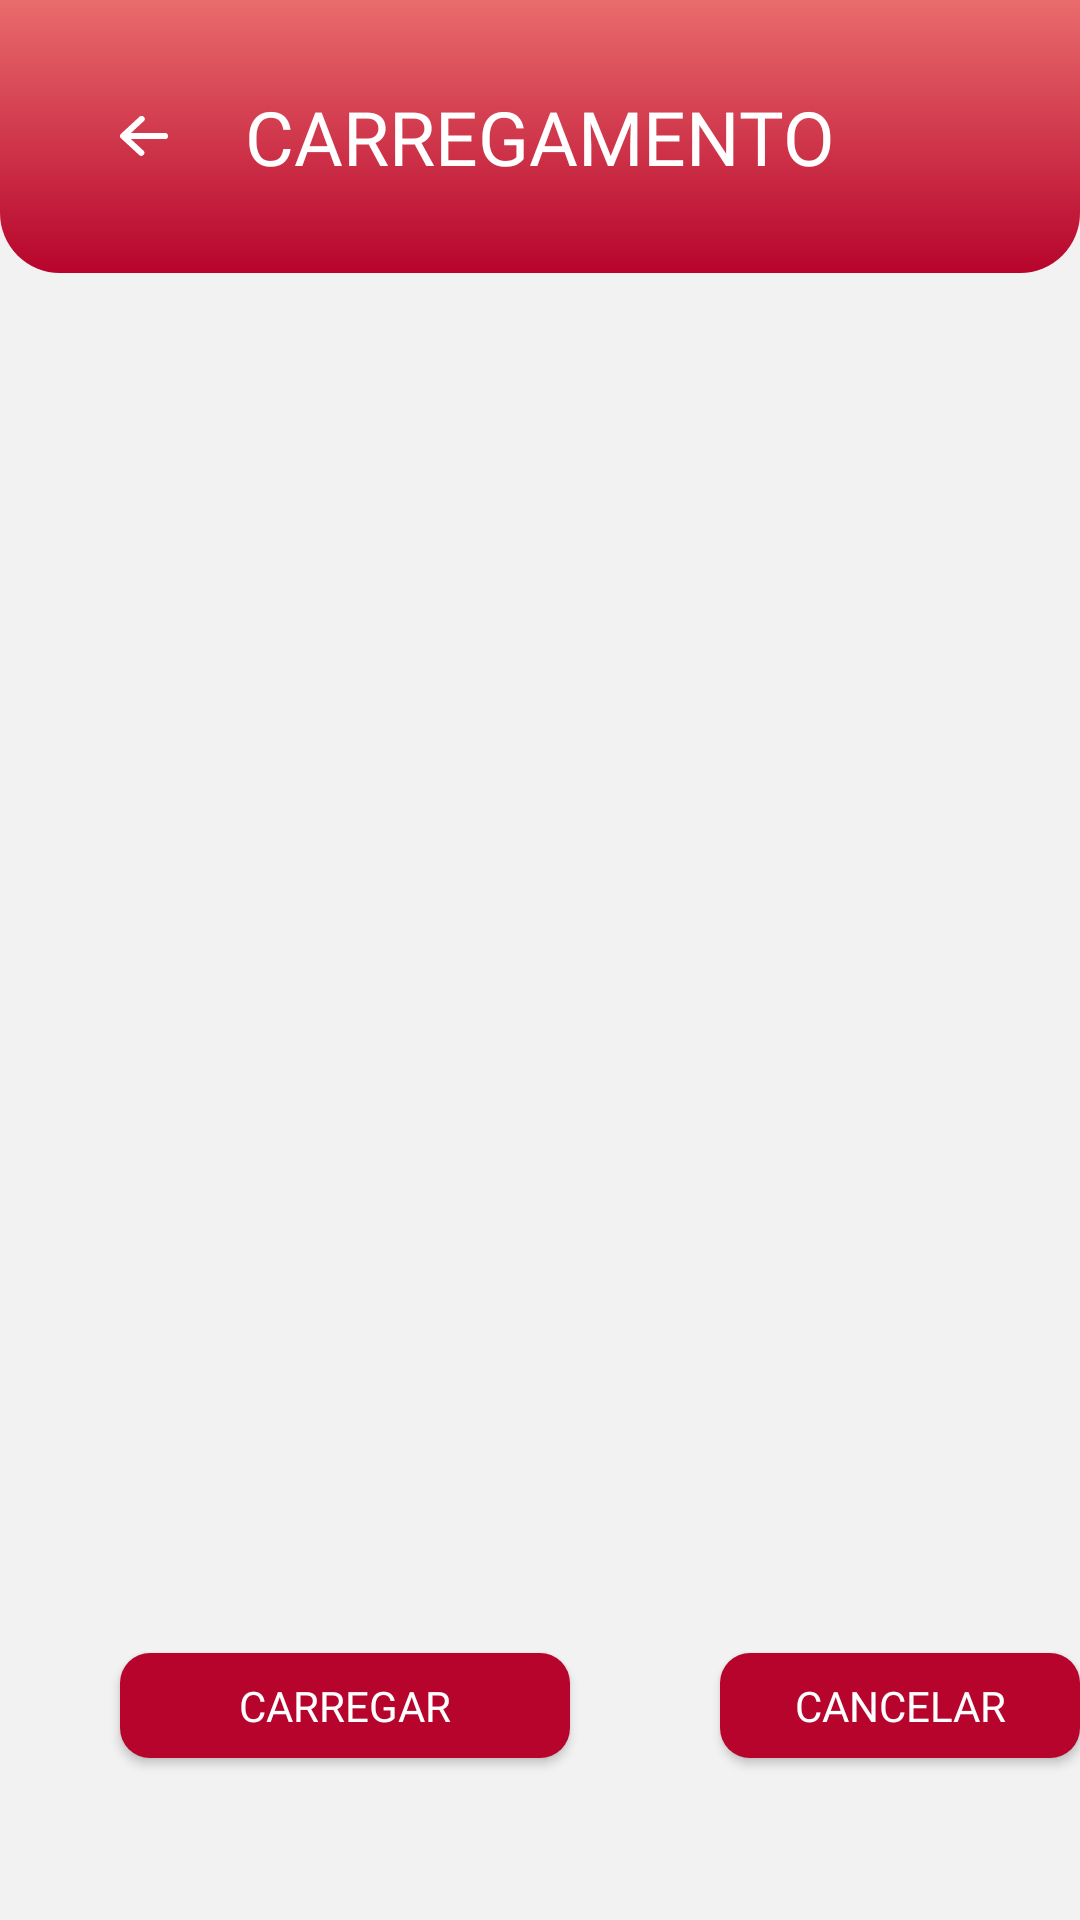

Screen size 1080px×1920px. Icon name, then its box in pixels as (x1,y1,x2,y2):
seta: (120,116,168,156)
